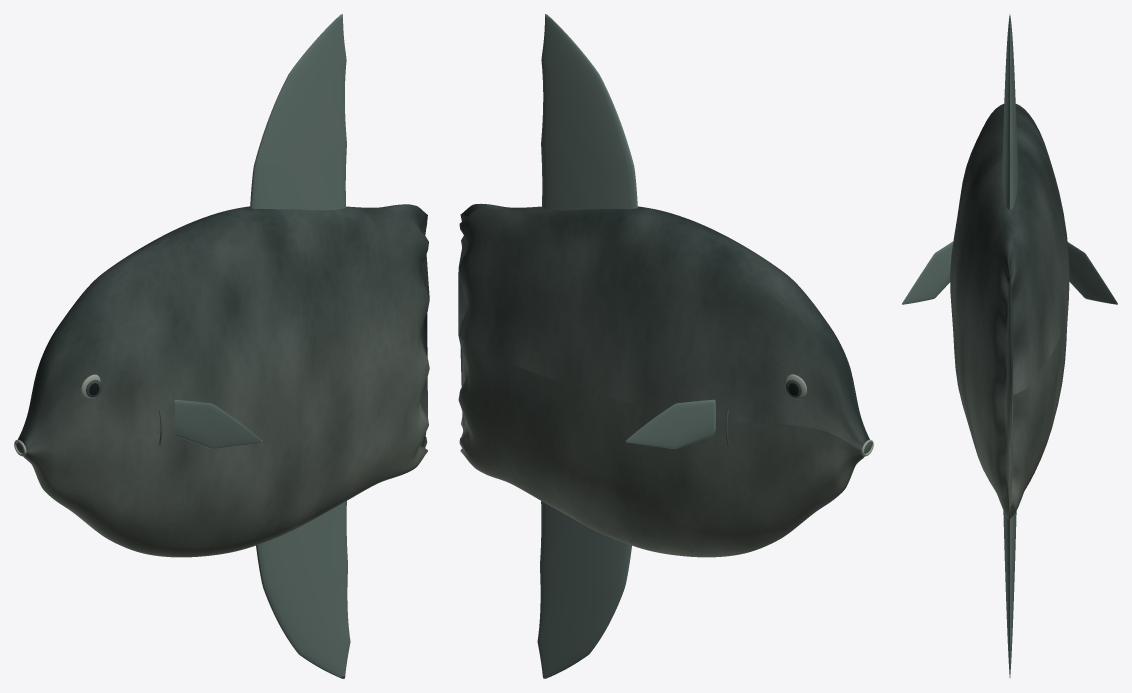
Rendered from ocean-sunfish-v6.glb.
The picture shows the model from 3 angles, left to right: view 1: azimuth 30°, elevation 25°; view 2: azimuth 150°, elevation 25°; view 3: azimuth 270°, elevation 25°; orthographic projection.
Parts seen in each view (by area): view 1: Sunfish_Disc_Truncated, Sunfish_Dorsal_Fin, Sunfish_Anal_Fin, Sunfish_Pectoral_-1; view 2: Sunfish_Disc_Truncated, Sunfish_Dorsal_Fin, Sunfish_Anal_Fin, Sunfish_Pectoral_1; view 3: Sunfish_Disc_Truncated, Sunfish_Dorsal_Fin, Sunfish_Pectoral_-1, Sunfish_Pectoral_1, Sunfish_Anal_Fin.
Boxes of the visible parts, x1=… form: Sunfish_Disc_Truncated: x1=17, y1=204, x2=429, y2=557; Sunfish_Dorsal_Fin: x1=250, y1=14, x2=346, y2=210; Sunfish_Anal_Fin: x1=256, y1=501, x2=350, y2=678; Sunfish_Pectoral_-1: x1=173, y1=400, x2=262, y2=448; Sunfish_Disc_Truncated: x1=458, y1=203, x2=870, y2=557; Sunfish_Dorsal_Fin: x1=541, y1=14, x2=637, y2=210; Sunfish_Anal_Fin: x1=537, y1=501, x2=631, y2=678; Sunfish_Pectoral_1: x1=625, y1=399, x2=715, y2=448; Sunfish_Disc_Truncated: x1=950, y1=104, x2=1069, y2=519; Sunfish_Dorsal_Fin: x1=1002, y1=14, x2=1017, y2=209; Sunfish_Pectoral_-1: x1=902, y1=241, x2=953, y2=304; Sunfish_Pectoral_1: x1=1067, y1=242, x2=1117, y2=304; Sunfish_Anal_Fin: x1=1003, y1=511, x2=1016, y2=677.
Size of the model in its own units: 2.05 by 3.19 by 0.941.
6 materials, 1 textured.
